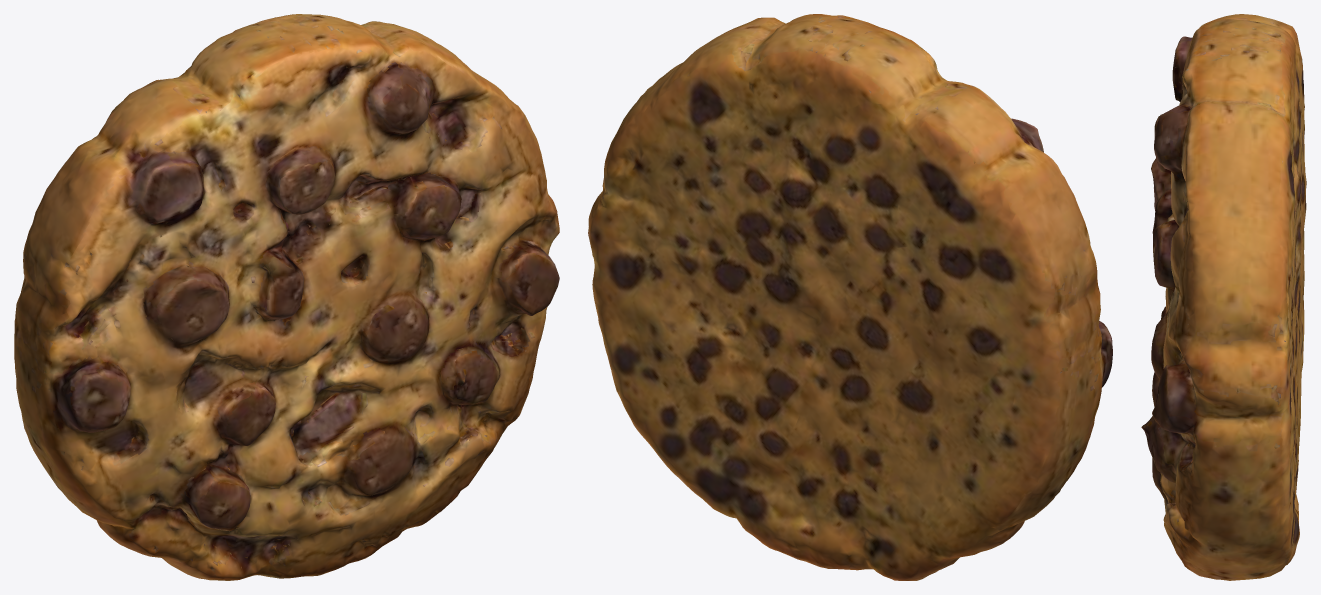
3 views of the same model, side by side, from view 1: azimuth 30°, elevation 25°; view 2: azimuth 150°, elevation 25°; view 3: azimuth 270°, elevation 25° (orthographic). The views are drawn at different scales.
Size of the model in its own units: 2 by 2 by 0.5861.
1 material, 1 textured.
